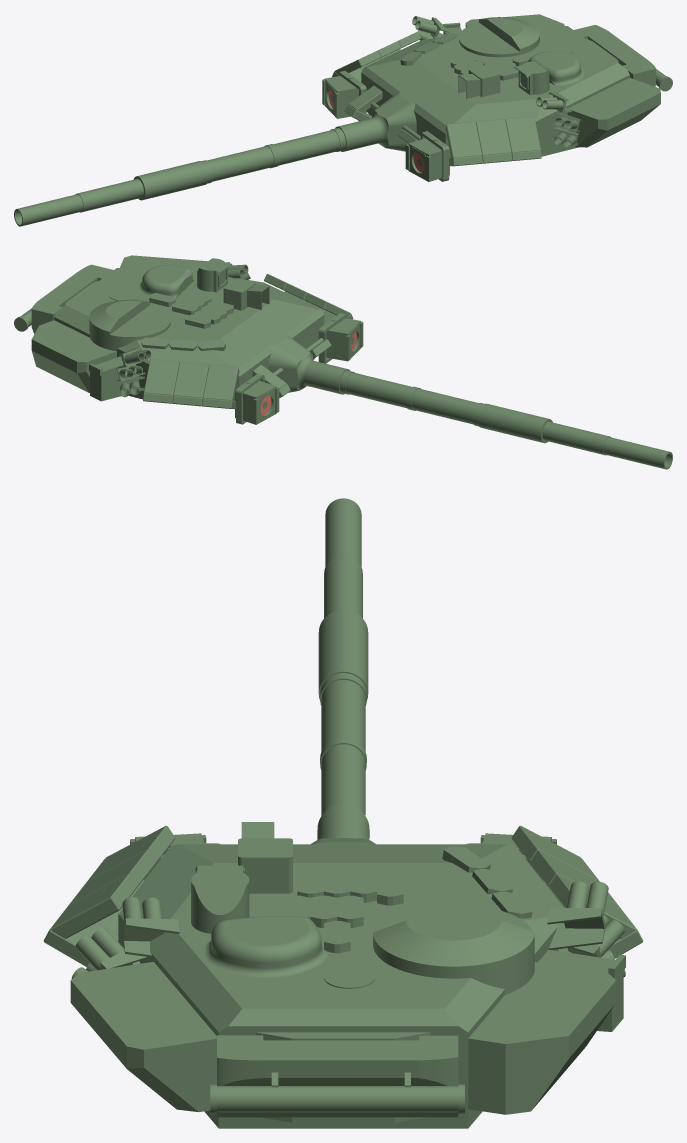
The model's file is 90 башня.fbx.
3 renders of one model, top to bottom at view 1: azimuth 30°, elevation 25°; view 2: azimuth 150°, elevation 25°; view 3: azimuth 270°, elevation 25°, orthographic. The views are drawn at different scales.
Visible parts, largest first — view 1: Turret; view 2: Turret; view 3: Turret.
Boxes of the visible parts, x1,y1,x2,y2 form: Turret: [14, 14, 672, 226]; Turret: [14, 255, 672, 469]; Turret: [43, 498, 643, 1128].
Bounding box in the file's own units: 1538 × 186 × 643.
